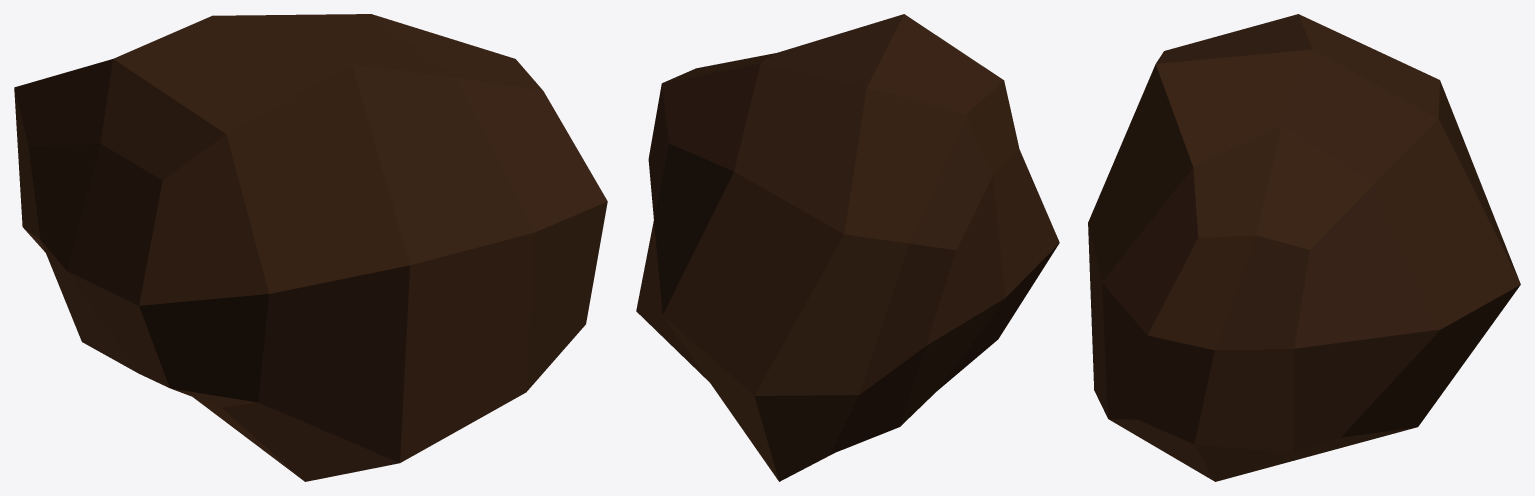
File: Asteroid4Collider.fbx
The picture shows the model from 3 angles, left to right: view 1: azimuth 30°, elevation 25°; view 2: azimuth 150°, elevation 25°; view 3: azimuth 270°, elevation 25°; orthographic projection. The views are drawn at different scales.
Visible parts, largest first — view 1: Asteroid4Collider; view 2: Asteroid4Collider; view 3: Asteroid4Collider.
Part boxes in pixels (x1,y1,x2,y2): Asteroid4Collider: (14, 14, 607, 481); Asteroid4Collider: (636, 14, 1059, 481); Asteroid4Collider: (1088, 14, 1520, 481).
Size of the model in its own units: 2260 by 2165 by 2138.
